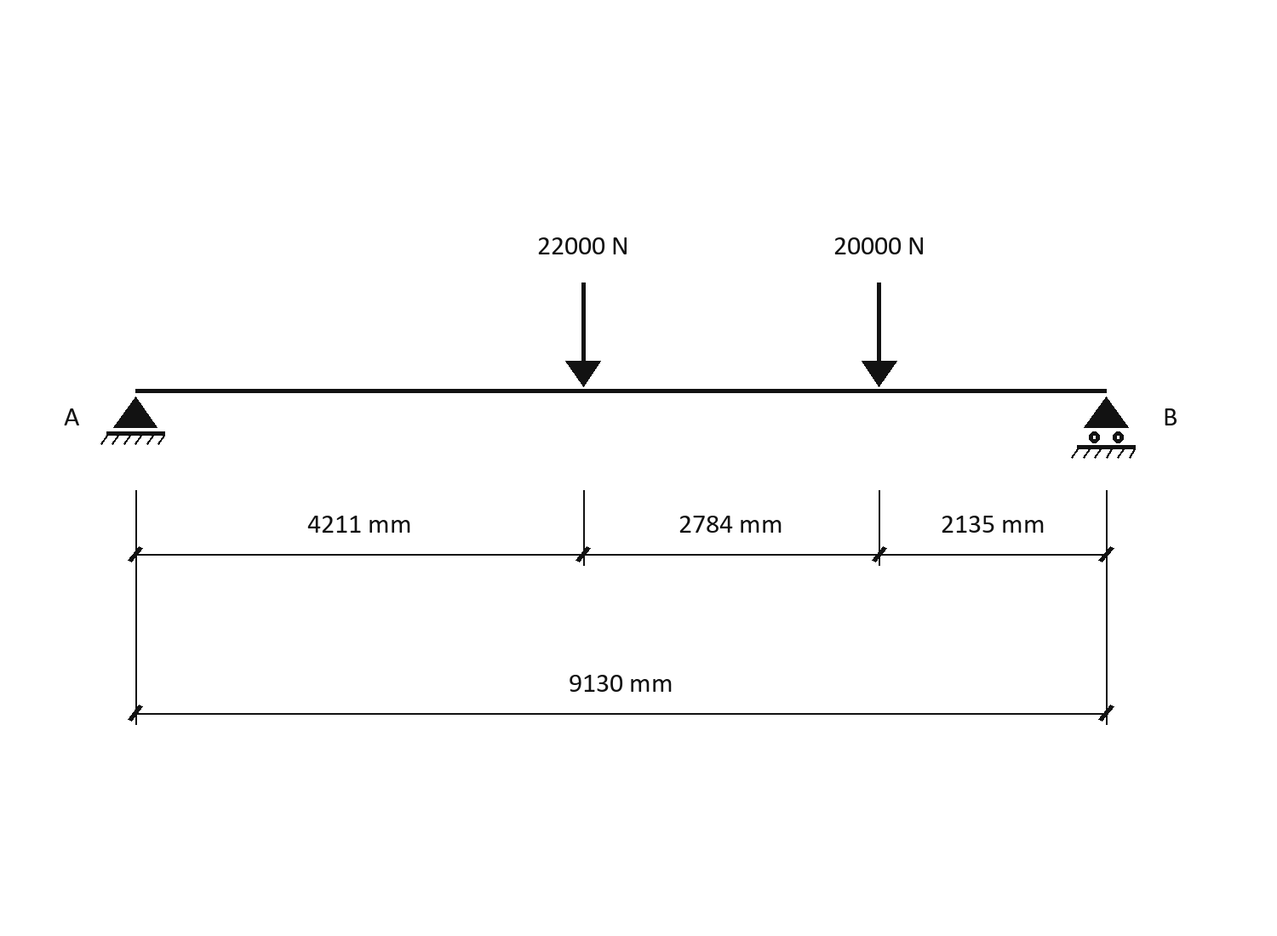pin_support: (100, 397, 165, 445)
point_load: (565, 283, 601, 387), (862, 283, 897, 387)
roller_support: (1071, 397, 1136, 459)
